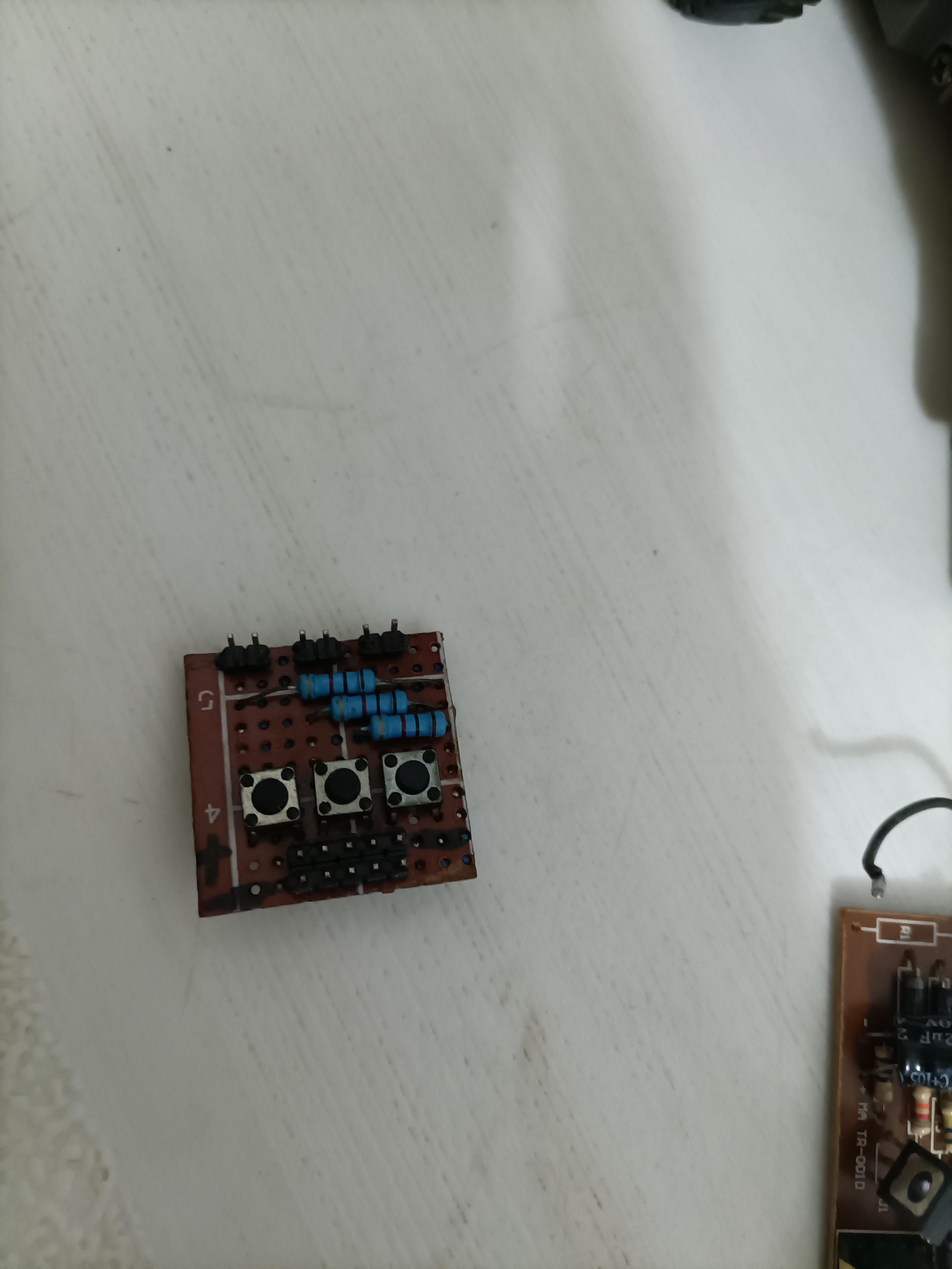Resistencia: (325, 694, 414, 720), (868, 1037, 896, 1104), (370, 716, 453, 738), (296, 673, 386, 691), (908, 1078, 936, 1135)
